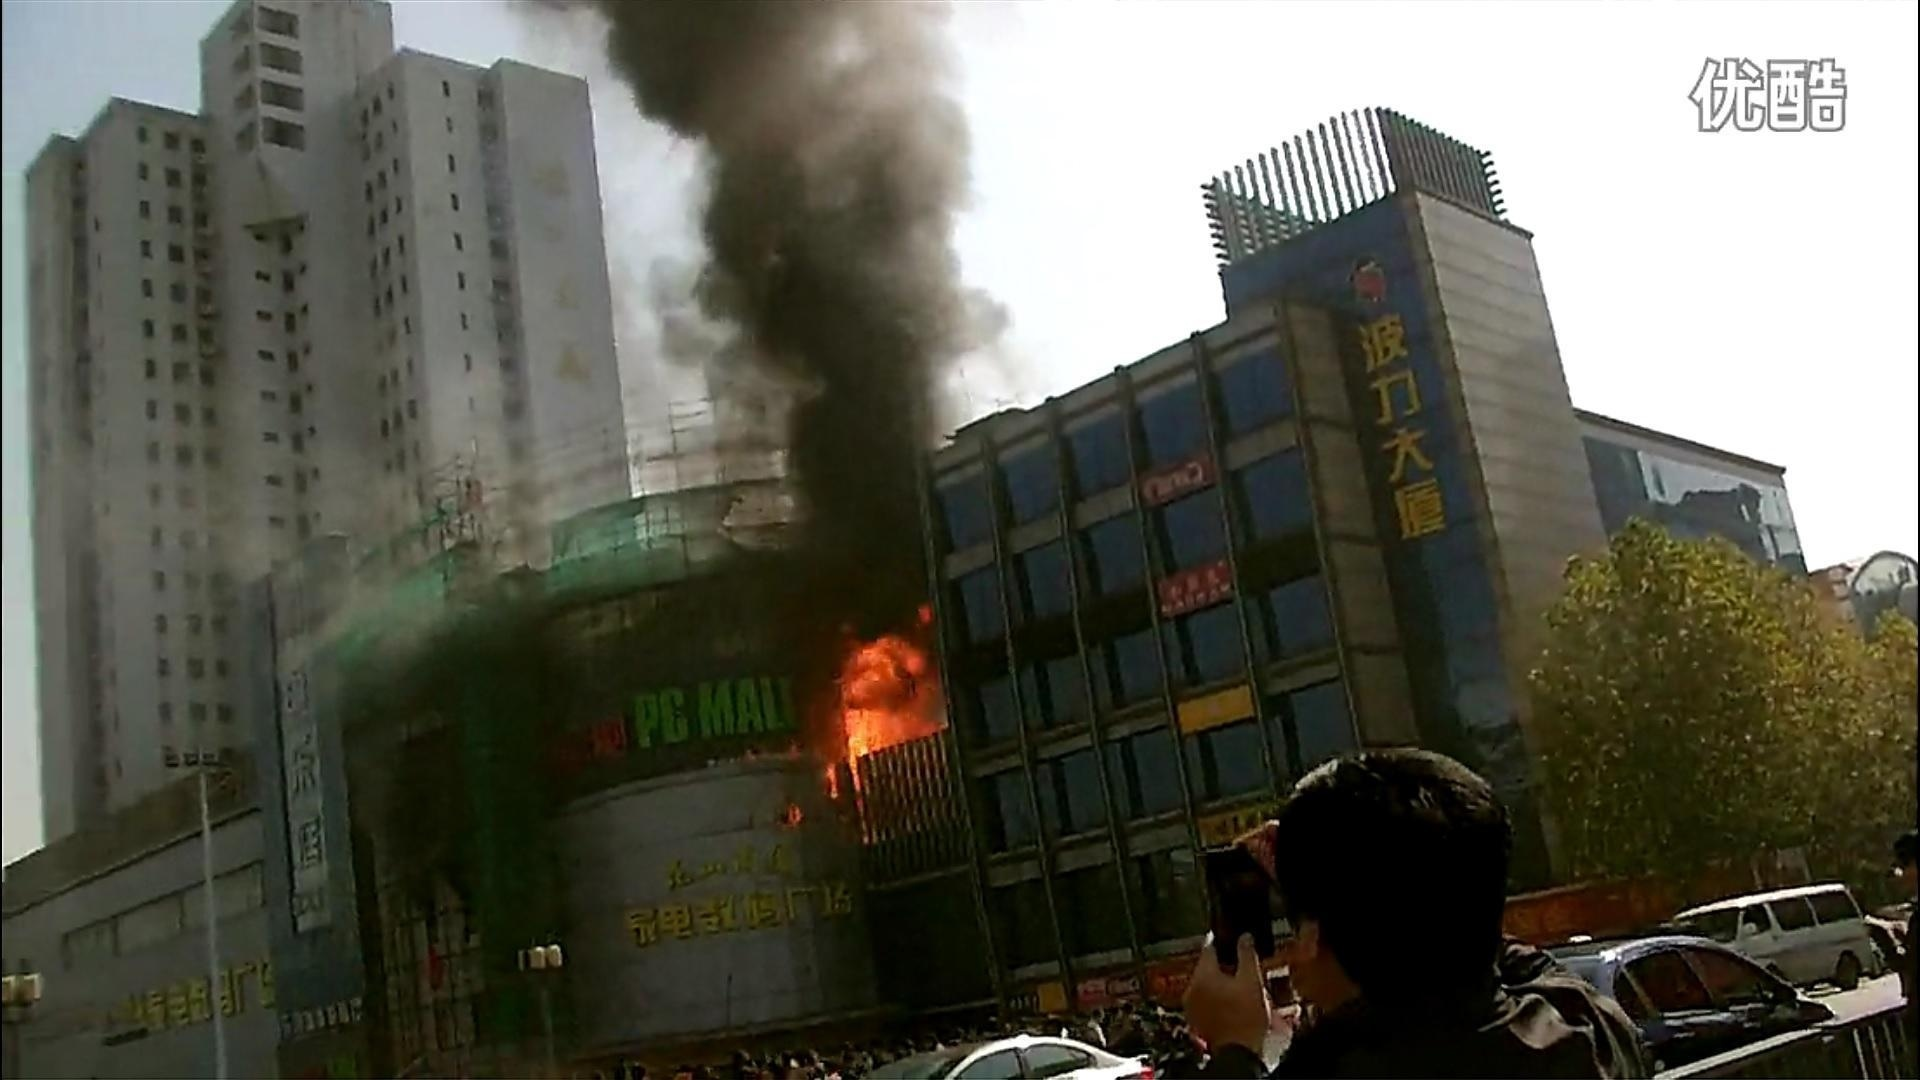fire: (822, 618, 942, 779)
